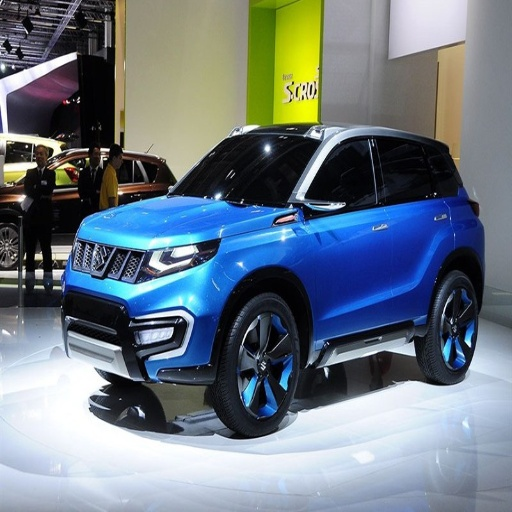front_bumper: (61, 240, 231, 389)
front_glass: (172, 138, 310, 204)
front_left_door: (299, 135, 390, 332)
